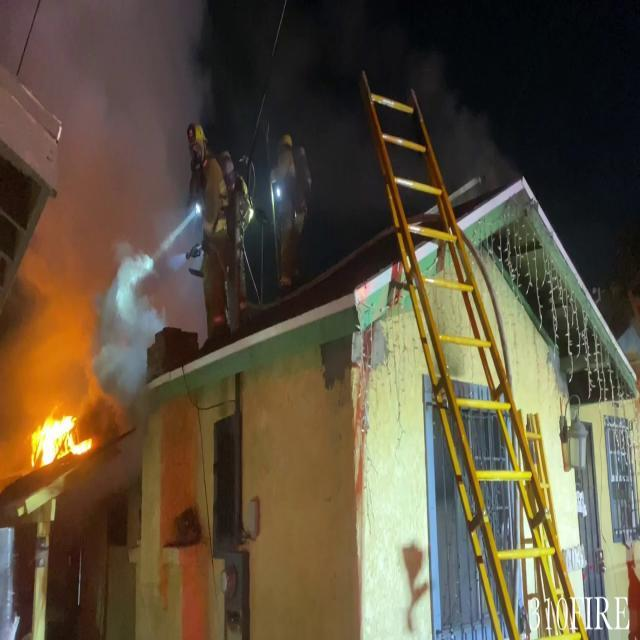Fire: (22, 404, 93, 475)
Smoke: (0, 0, 207, 391)
